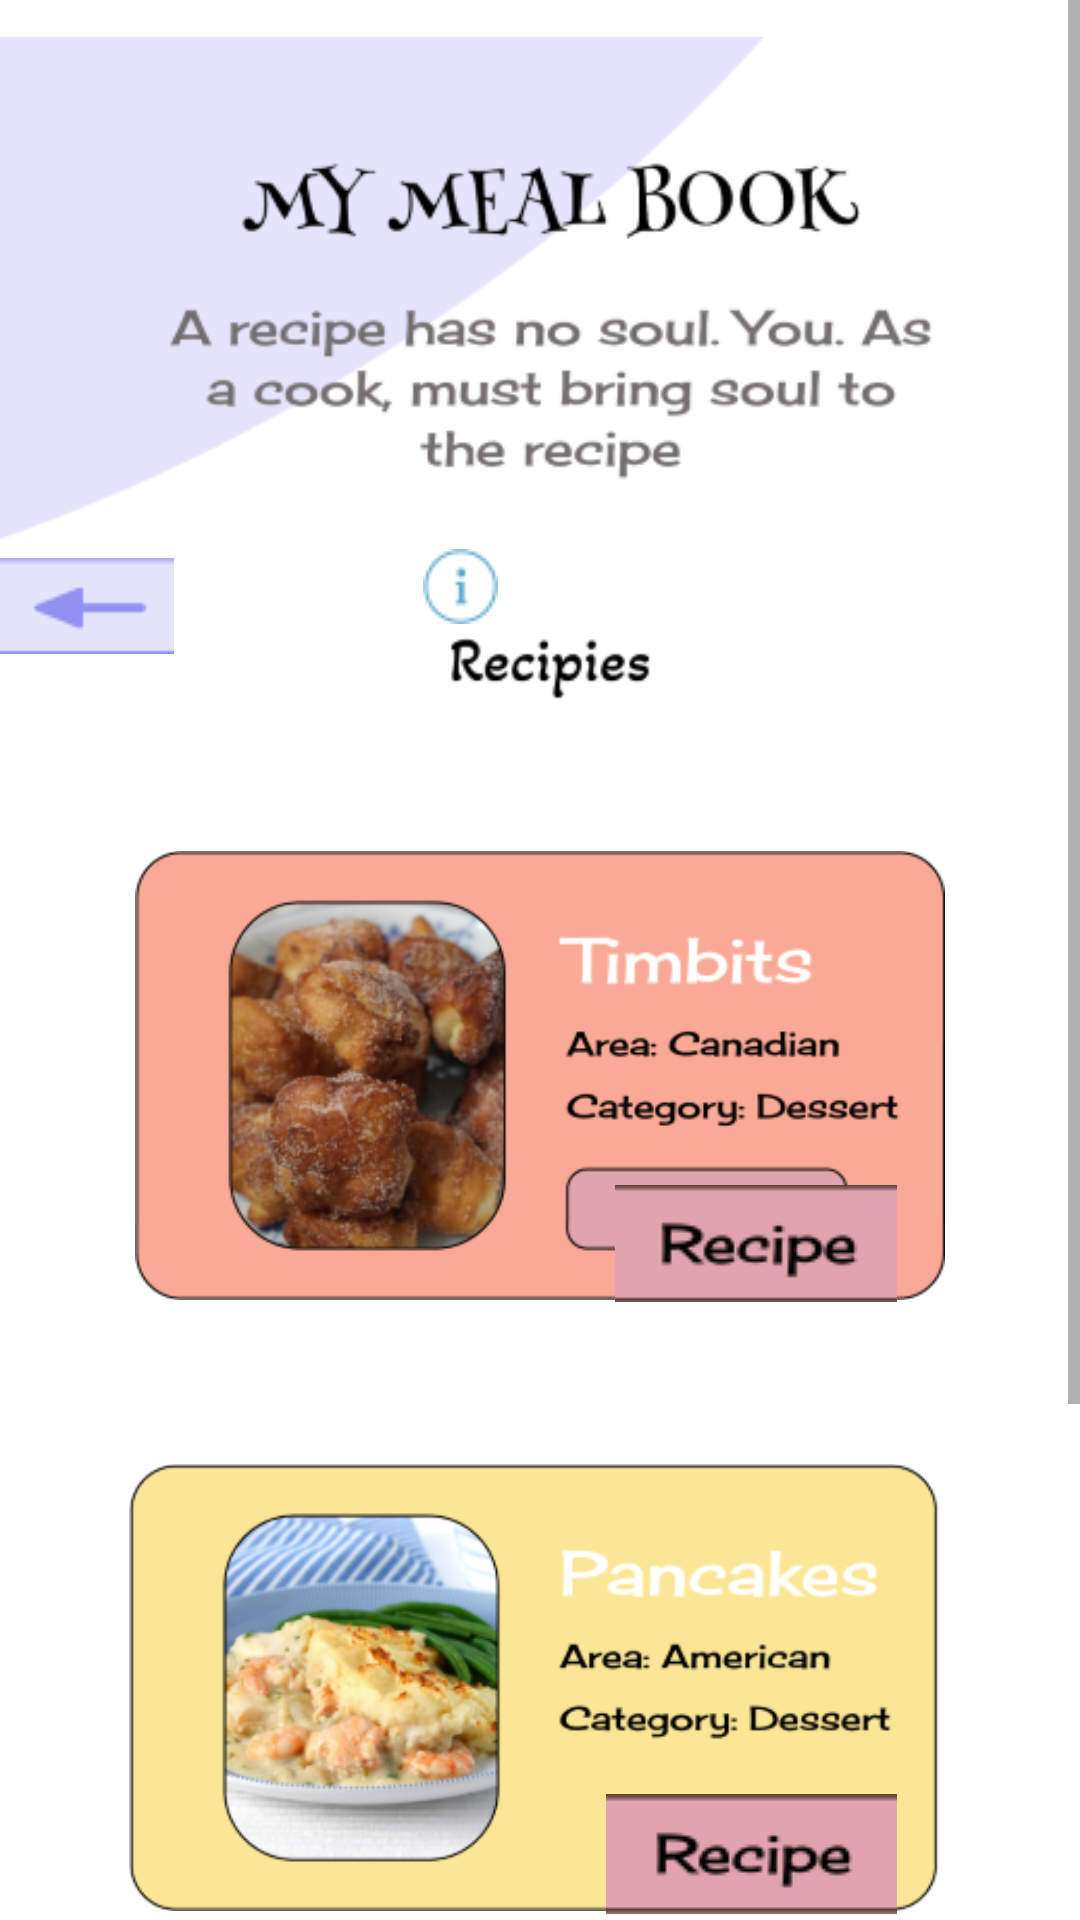

Named icons in this screenshot (1080 × 1920) and their centers, point (x, y):
arrow: point (87, 606)
info: point (460, 586)
